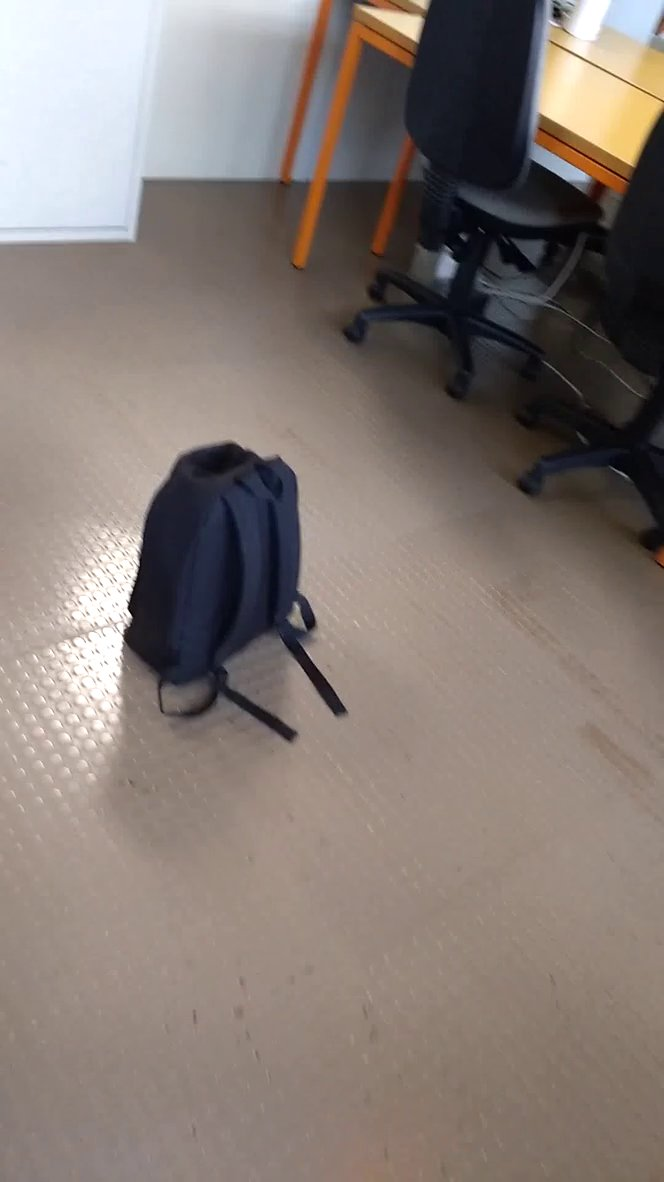bag: (112, 433, 365, 758)
chair: (348, 1, 602, 408)
